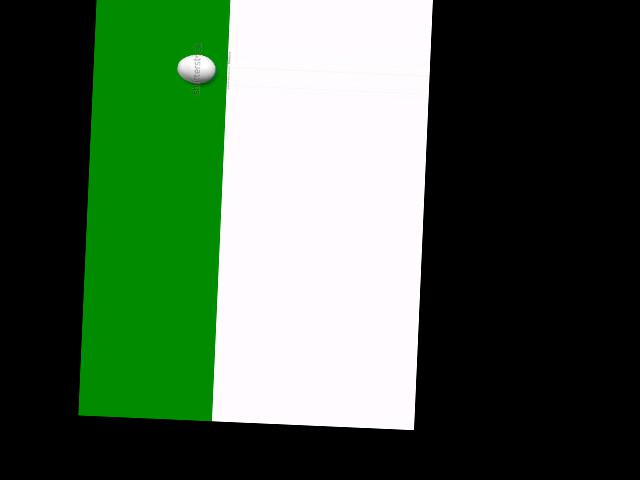egg: (176, 53, 216, 84)
